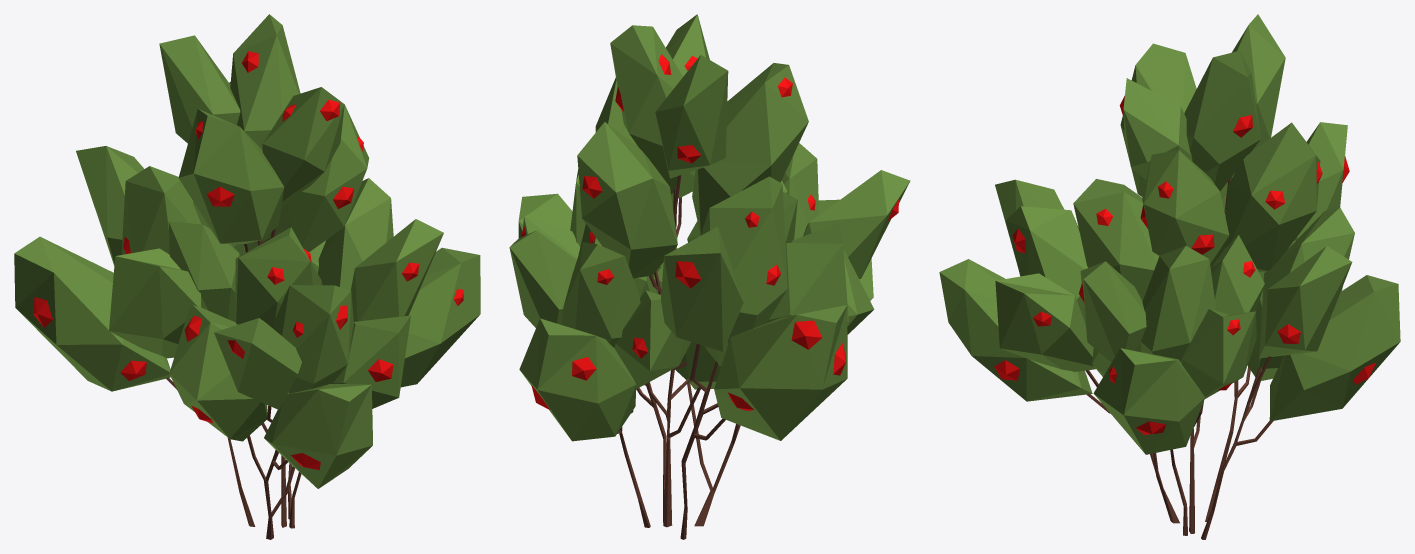
Rendered from mountain_ash_with_berries_2.fbx.
The picture shows the model from 3 angles, left to right: view 1: azimuth 30°, elevation 25°; view 2: azimuth 150°, elevation 25°; view 3: azimuth 270°, elevation 25°; orthographic projection. The views are drawn at different scales.
Visible parts, largest first — view 1: mountain_ash_with_berries_2; view 2: mountain_ash_with_berries_2; view 3: mountain_ash_with_berries_2.
Boxes of the visible parts, bbox=[...] form: mountain_ash_with_berries_2: bbox=[14, 14, 480, 539]; mountain_ash_with_berries_2: bbox=[509, 14, 910, 539]; mountain_ash_with_berries_2: bbox=[939, 14, 1400, 539].
Size of the model in its own units: 333 by 410 by 352.
